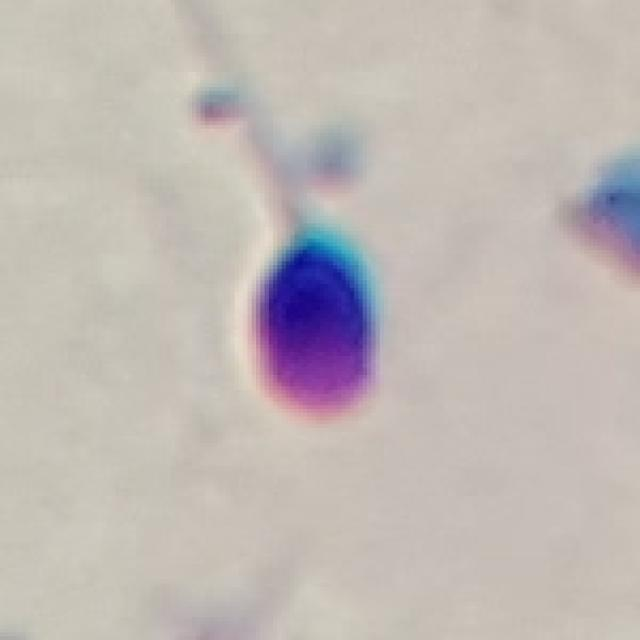normal sperm: (246, 138, 381, 428)
